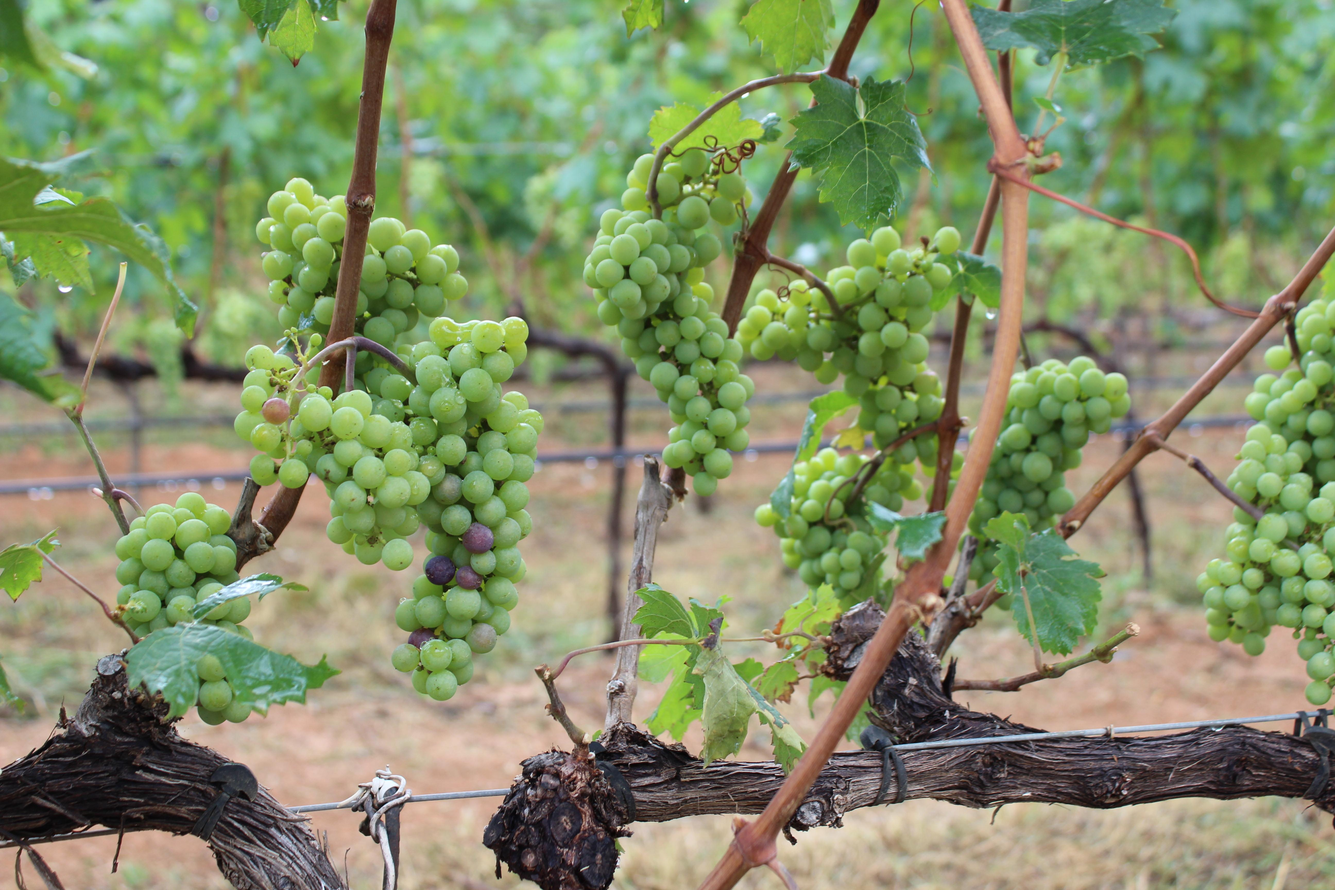leaf: (0, 158, 197, 336), (788, 75, 930, 228), (126, 623, 339, 716), (985, 512, 1103, 654), (972, 0, 1175, 70), (0, 294, 80, 407), (694, 645, 758, 767), (740, 0, 833, 73), (192, 573, 308, 620), (646, 652, 703, 741), (793, 390, 858, 466), (673, 102, 764, 153), (867, 502, 945, 561), (931, 250, 1001, 311), (0, 530, 59, 600), (634, 583, 697, 638), (269, 0, 316, 65), (0, 0, 42, 68), (649, 102, 702, 149), (238, 0, 296, 40), (754, 659, 799, 702), (622, 0, 664, 37), (770, 468, 795, 518), (0, 664, 24, 712), (711, 93, 722, 104), (303, 0, 304, 2), (761, 699, 762, 700), (683, 647, 685, 647)
